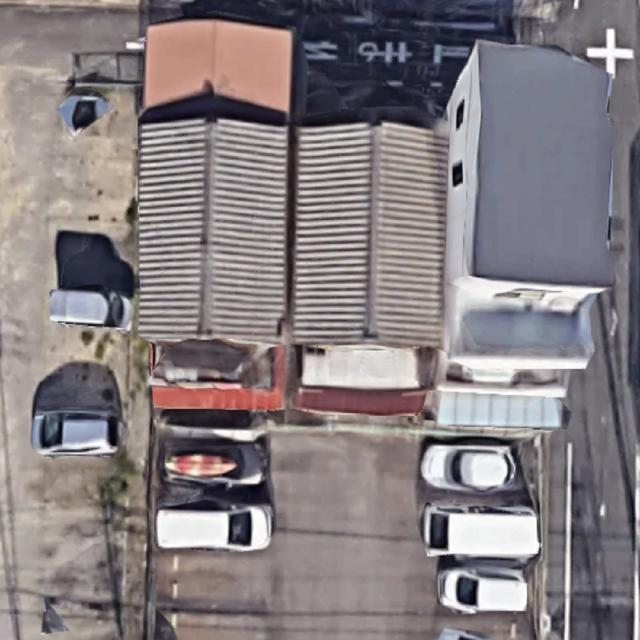Batiment: (445, 41, 615, 368), (139, 20, 292, 343), (292, 123, 448, 345)
